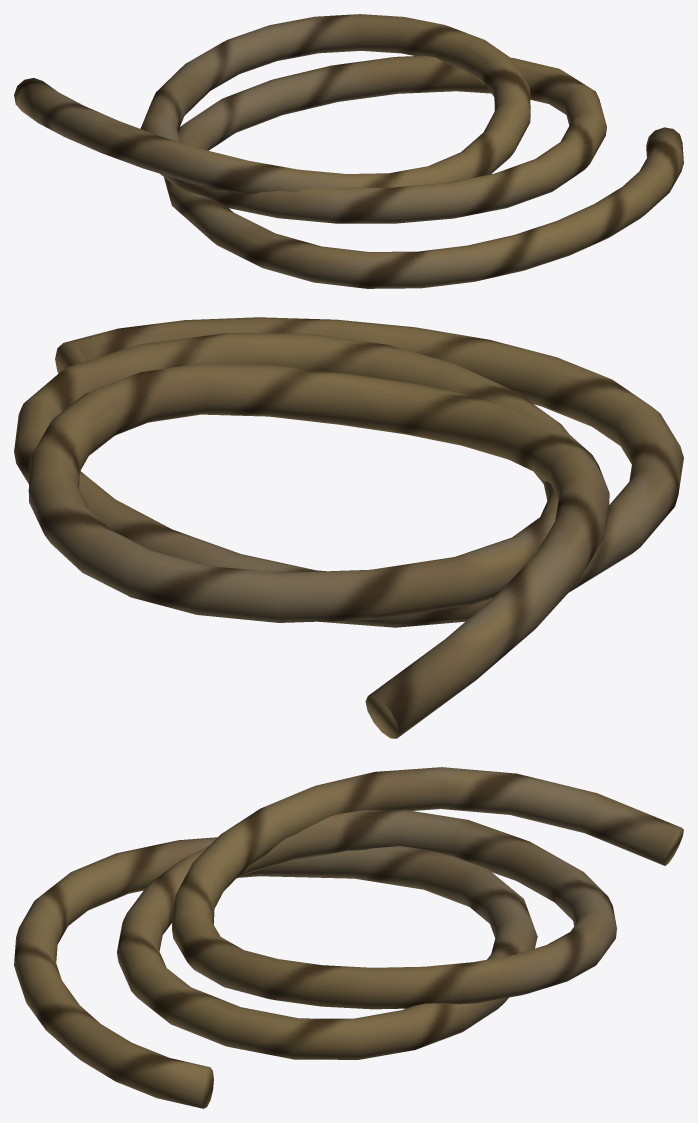
The model's file is rope_2.glb.
3 renders of one model, top to bottom at view 1: azimuth 30°, elevation 25°; view 2: azimuth 150°, elevation 25°; view 3: azimuth 270°, elevation 25°, orthographic. The views are drawn at different scales.
Parts seen in each view (by area): view 1: Rope_2; view 2: Rope_2; view 3: Rope_2.
Boxes of the visible parts, x1=… form: Rope_2: x1=14, y1=14, x2=683, y2=288; Rope_2: x1=14, y1=317, x2=683, y2=738; Rope_2: x1=14, y1=767, x2=683, y2=1108.
Size of the model in its own units: 0.8078 by 0.1236 by 0.845.
1 material, 1 textured.
